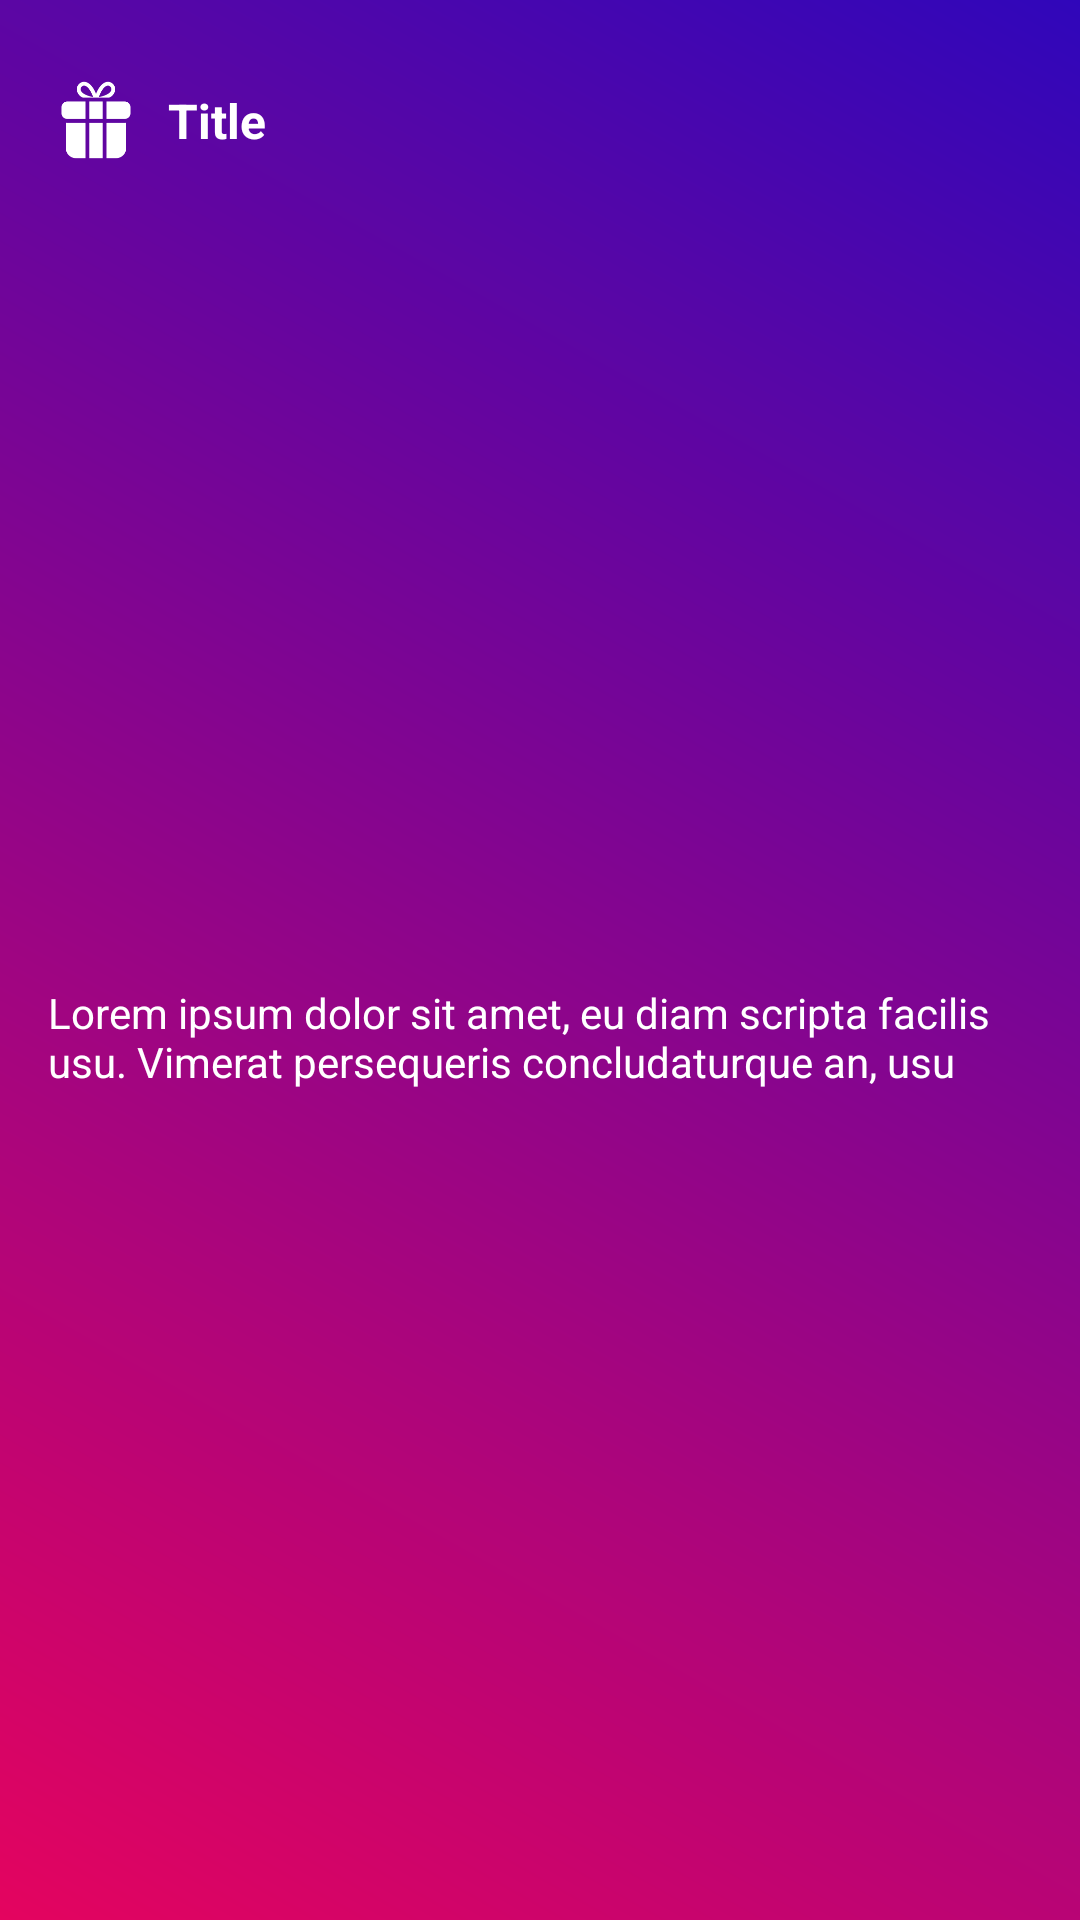

Icon click points for this 1080x1920 phone screenshot, format (x=x, y=y):
free gift: (x=96, y=120)
